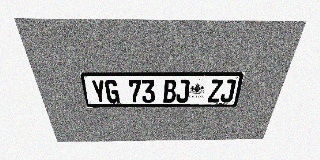3: (141, 80, 154, 103)
7: (128, 80, 142, 103)
B: (163, 80, 177, 102)
G: (104, 80, 120, 103)
J: (220, 79, 236, 102), (176, 79, 190, 102)
Y: (90, 80, 107, 103)
Z: (207, 79, 223, 102)
